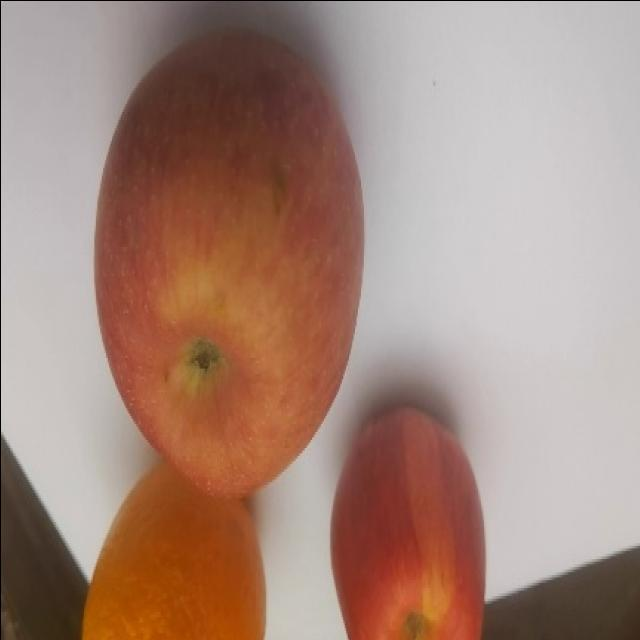Apple: (88, 22, 366, 506), (328, 400, 496, 640)
Orange: (78, 447, 269, 640)
